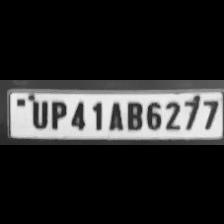1: (87, 97, 105, 130)
2: (162, 97, 182, 130)
4: (66, 97, 88, 130)
6: (142, 98, 162, 130)
7: (199, 96, 219, 130), (181, 96, 199, 130)
A: (105, 98, 123, 130)
B: (124, 98, 142, 130)
P: (47, 97, 67, 128)
U: (26, 97, 48, 128)
